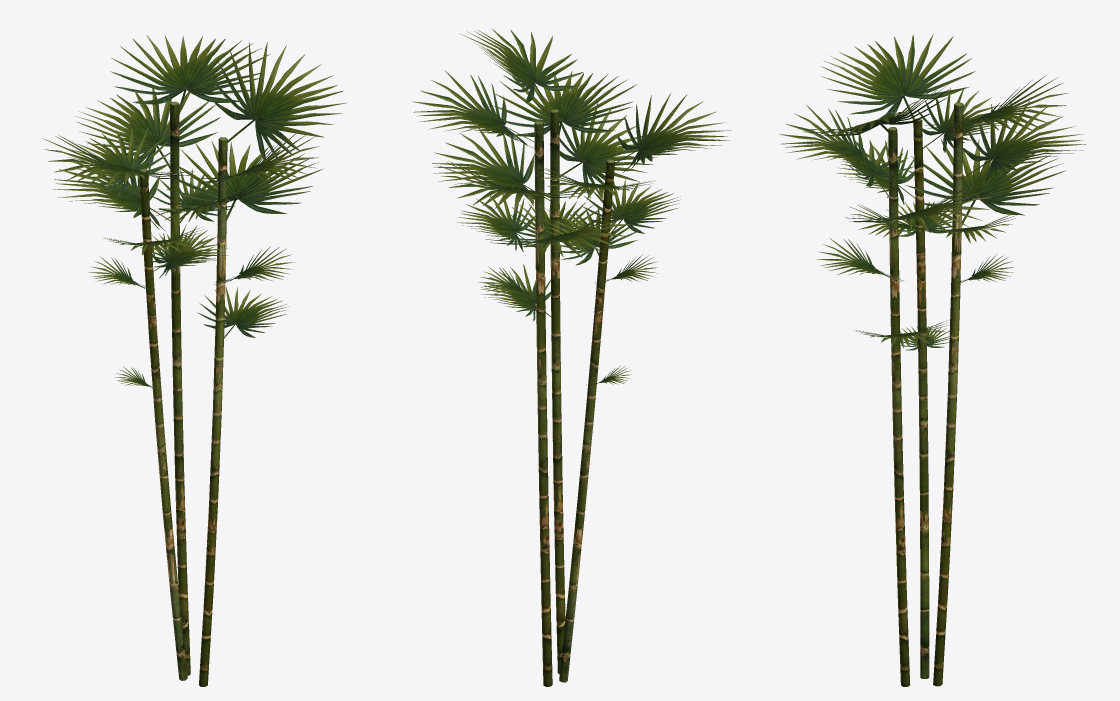
The model's file is bamboopalm.obj.
3 views of the same model, side by side, from view 1: azimuth 30°, elevation 25°; view 2: azimuth 150°, elevation 25°; view 3: azimuth 270°, elevation 25° (orthographic). The views are drawn at different scales.
Parts seen in each view (by area): view 1: Cylinder06; view 2: Cylinder06; view 3: Cylinder06.
Boxes of the visible parts, x1,y1,x2,y2 form: Cylinder06: [42, 35, 346, 686]; Cylinder06: [412, 29, 731, 686]; Cylinder06: [779, 34, 1085, 686].
Bounding box in the file's own units: 20.06 × 38.45 × 18.41.
Materials: 1 (1 with a texture image).
